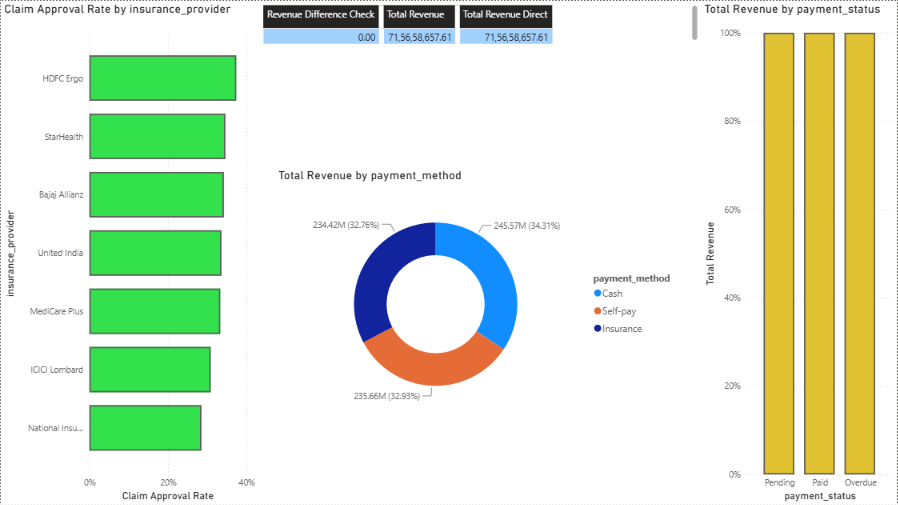

The page's visual inventory and layout, read from the dashboard file:
{"tool":"powerbi","page":{"name":"Financial and Insurance","canvas":[1280,720],"ordinal":2},"visuals":[{"type":"clusteredBarChart","fields":{"Category":["public insurance_claims.insurance_provider"],"Y":["public insurance_claims.Claim Approval Rate"]},"box":[0,1.2,368.1,719],"z":0},{"type":"donutChart","fields":{"Category":["public billing.payment_method"],"Y":["public billing.Total Revenue"]},"box":[391.3,238.5,585.9,359.5],"z":1},{"type":"hundredPercentStackedColumnChart","fields":{"Category":["public billing.payment_status"],"Y":["public billing.Total Revenue"]},"box":[1000.3,1.2,279.9,719],"z":2},{"type":"tableEx","fields":{"Values":["public billing.Revenue Difference Check","public billing.Total Revenue","public billing.Total Revenue Direct"]},"box":[368.1,1.2,632.2,64.8],"z":3}]}

Visuals, with their boxes in screenshot pixels (x1, y1, x2, y2), scaled from the page's 1280x720 canvas onto the 898x505 screenshot:
clusteredBarChart - public insurance_claims.insurance_provider x public insurance_claims.Claim Approval Rate: box=[0, 1, 258, 504]
donutChart - public billing.payment_method x public billing.Total Revenue: box=[275, 167, 686, 419]
hundredPercentStackedColumnChart - public billing.payment_status x public billing.Total Revenue: box=[702, 1, 897, 504]
tableEx - public billing.Revenue Difference Check x public billing.Total Revenue: box=[258, 1, 702, 46]
